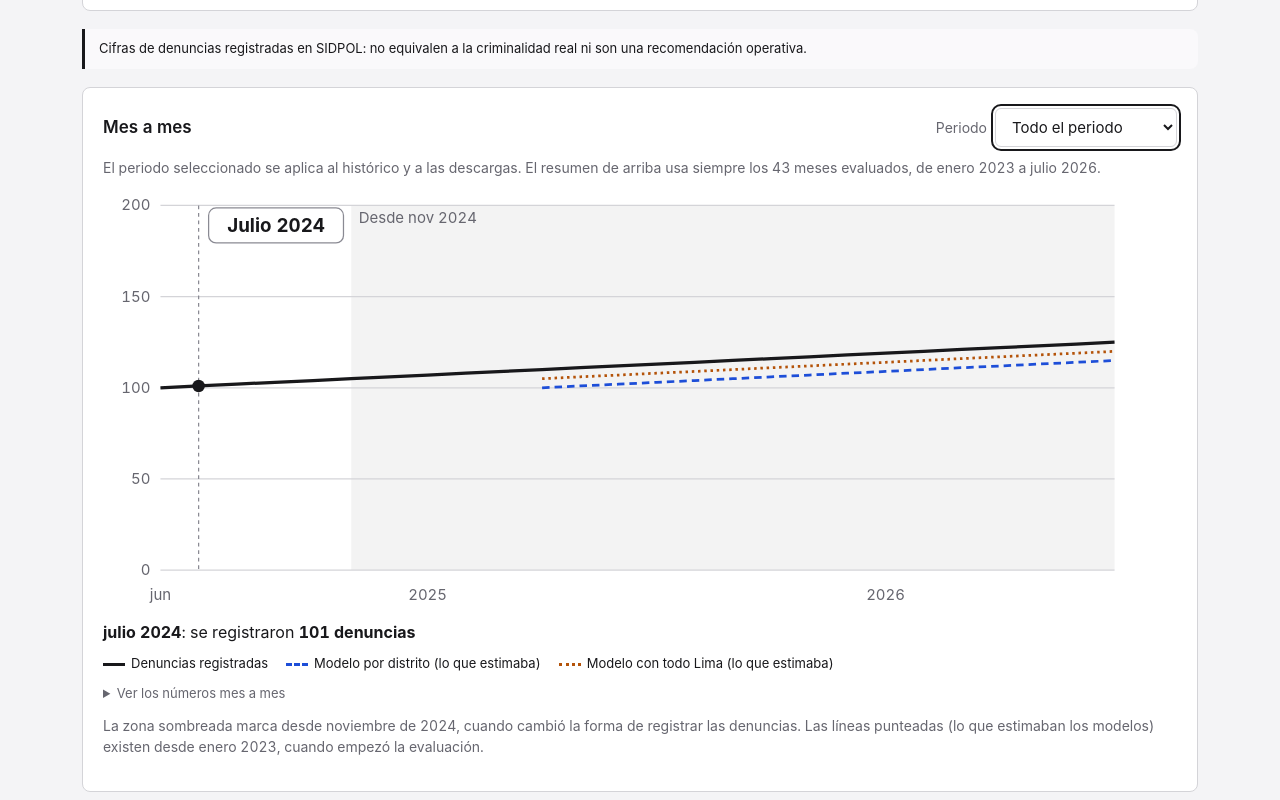
it: gráfico accesible › al cambiar de periodo, el mes elegido sigue si existe en la nueva serie y, si no, pasa al último mes disponible
The width and height of the screenshot is (1280, 800).
Earlier steps of the test are not shown.
(page scrolled)
Press ArrowRight in the picture named "Usa las flechas", box [103,188,1177,612]
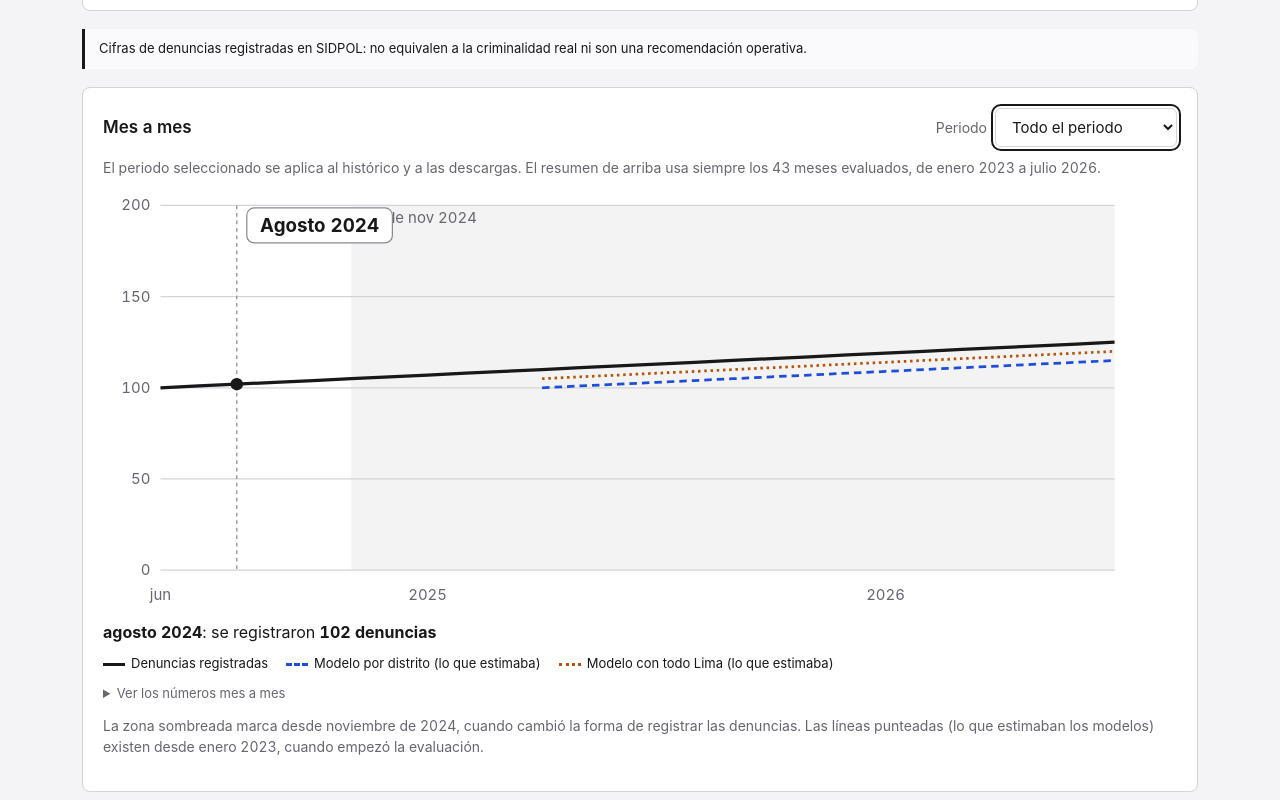
Press ArrowRight in the picture named "Usa las flechas", box [103,188,1177,612]
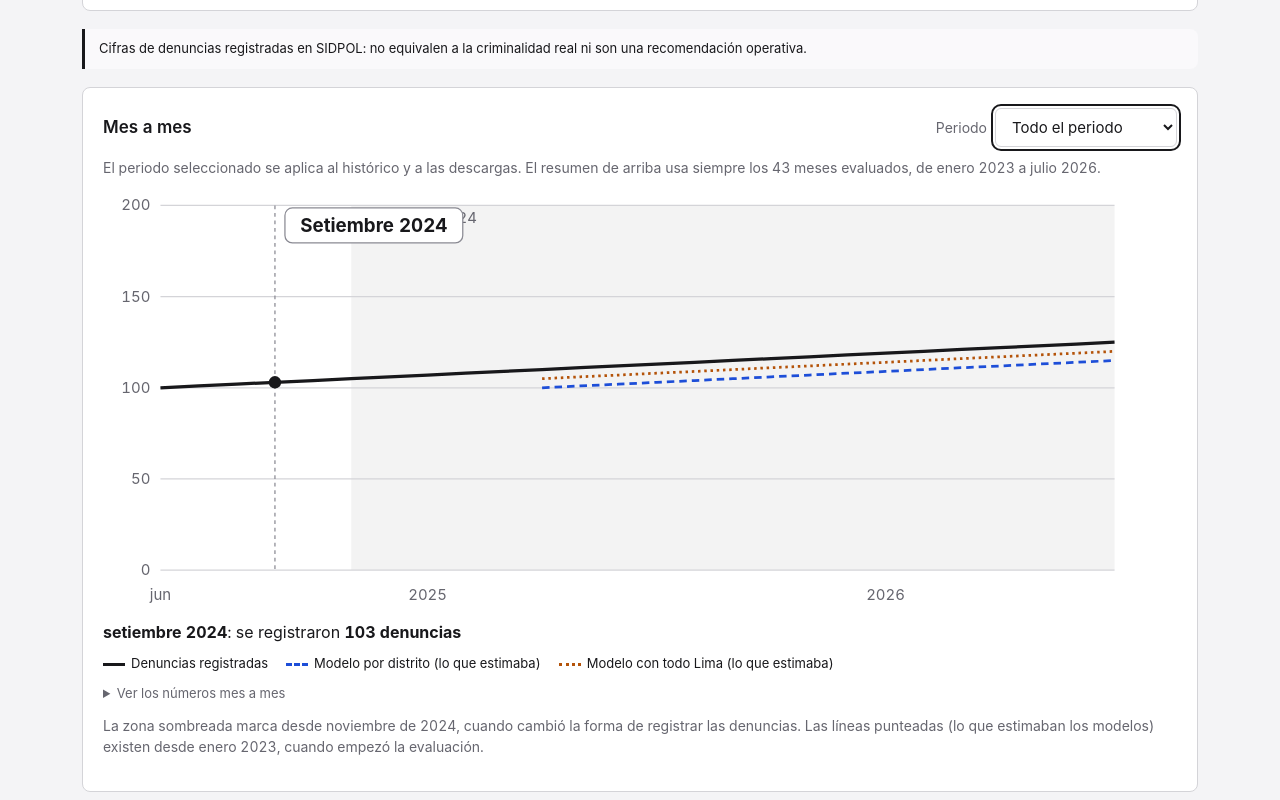
Check: the text "setiembre 2024: se registraron 103 denuncias" is shown, box [103,622,461,642]
Select "Antes de nov 2024" in the dropdown labelled "Periodo": (1086, 127) [995,108,1177,147]
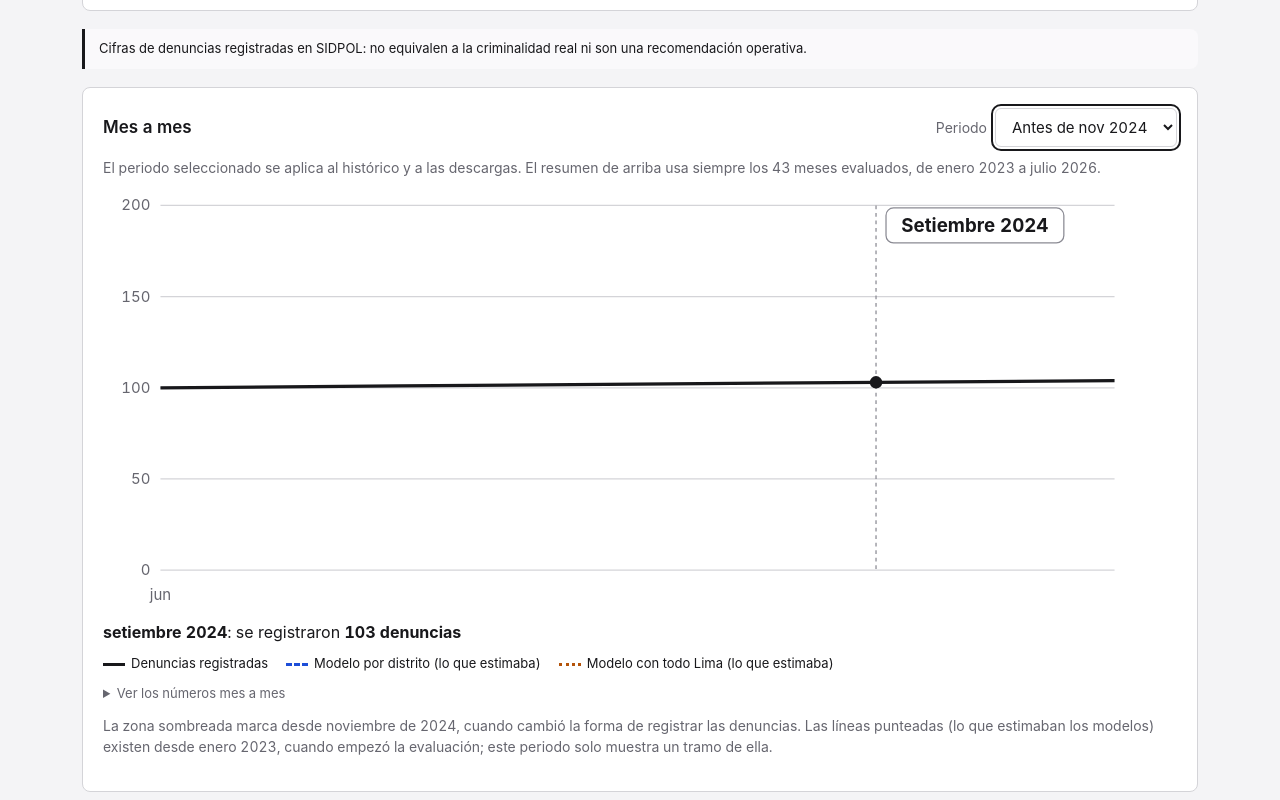
Check: the text "setiembre 2024: se registraron 103 denuncias" is shown, box [103,622,461,642]
Select "Todo el periodo" in the dropdown labelled "Periodo": (1086, 127) [995,108,1177,147]
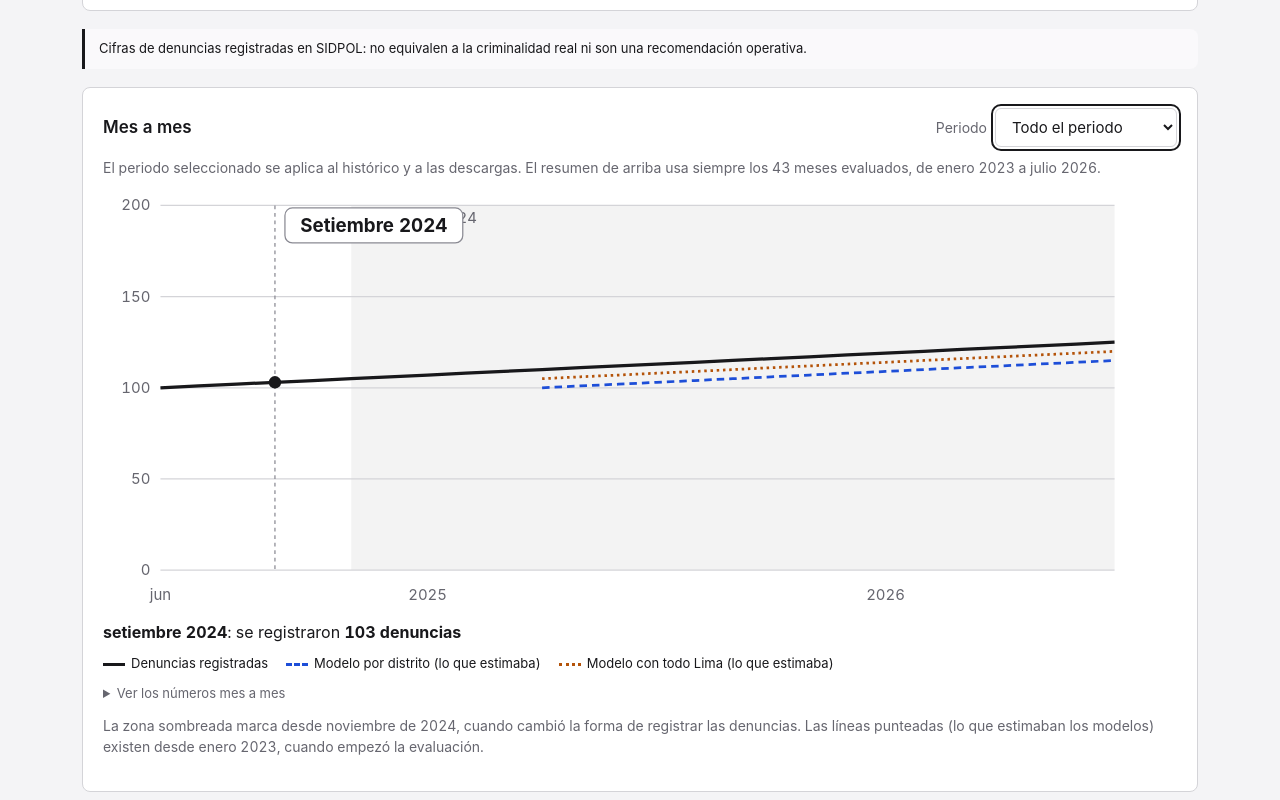
Press End in the picture named "Usa las flechas", box [103,188,1177,612]
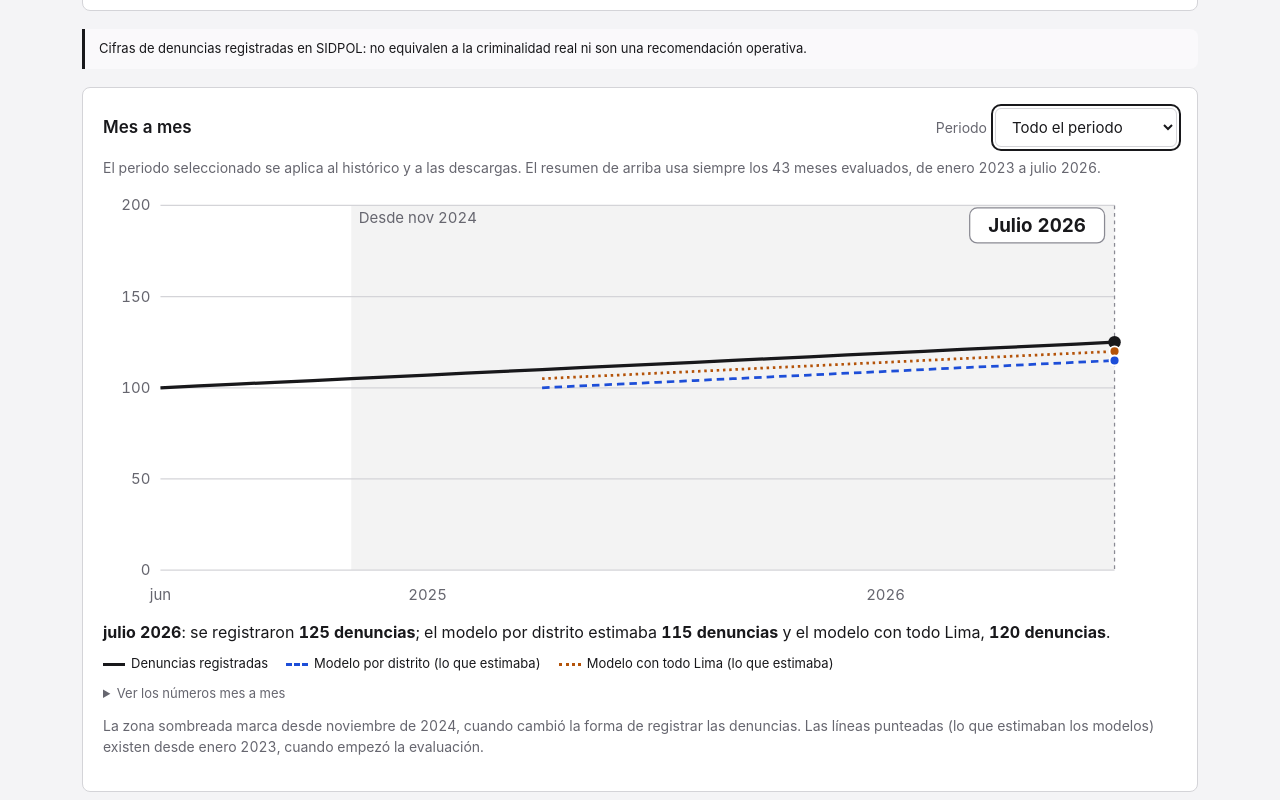
Check: the text "se registraron" shows "julio 2026", box [103,622,182,642]
Select "Antes de nov 2024" in the dropdown labelled "Periodo": (1086, 127) [995,108,1177,147]
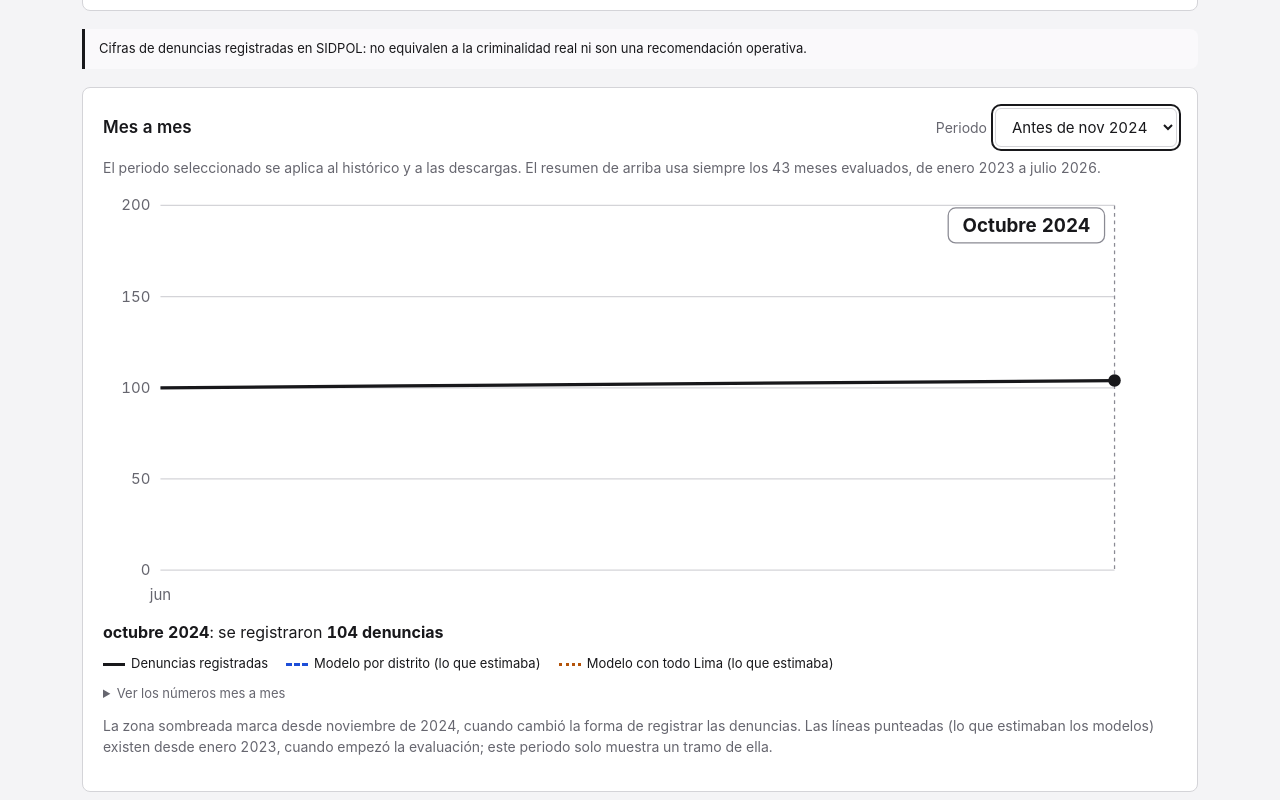
Check: the text "octubre 2024: se registraron 104 denuncias" is shown, box [103,622,444,642]
